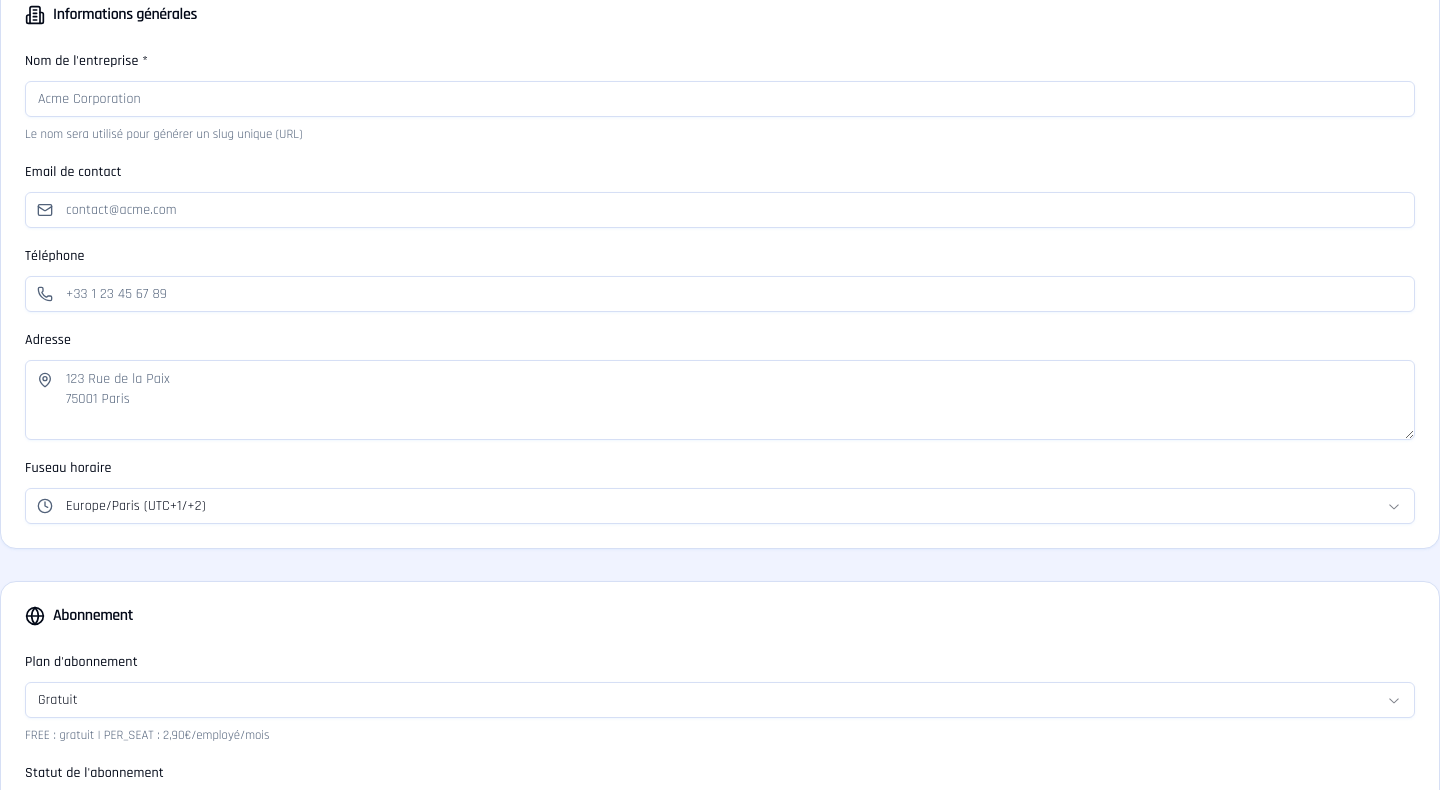
CompanyForm › Validation › affiche une erreur si le nom est trop court
Step 1. Type "A" into the field with placeholder "Acme Corporation" → (720, 99), box x1=25 y1=81 x2=1415 y2=117
(page scrolled)
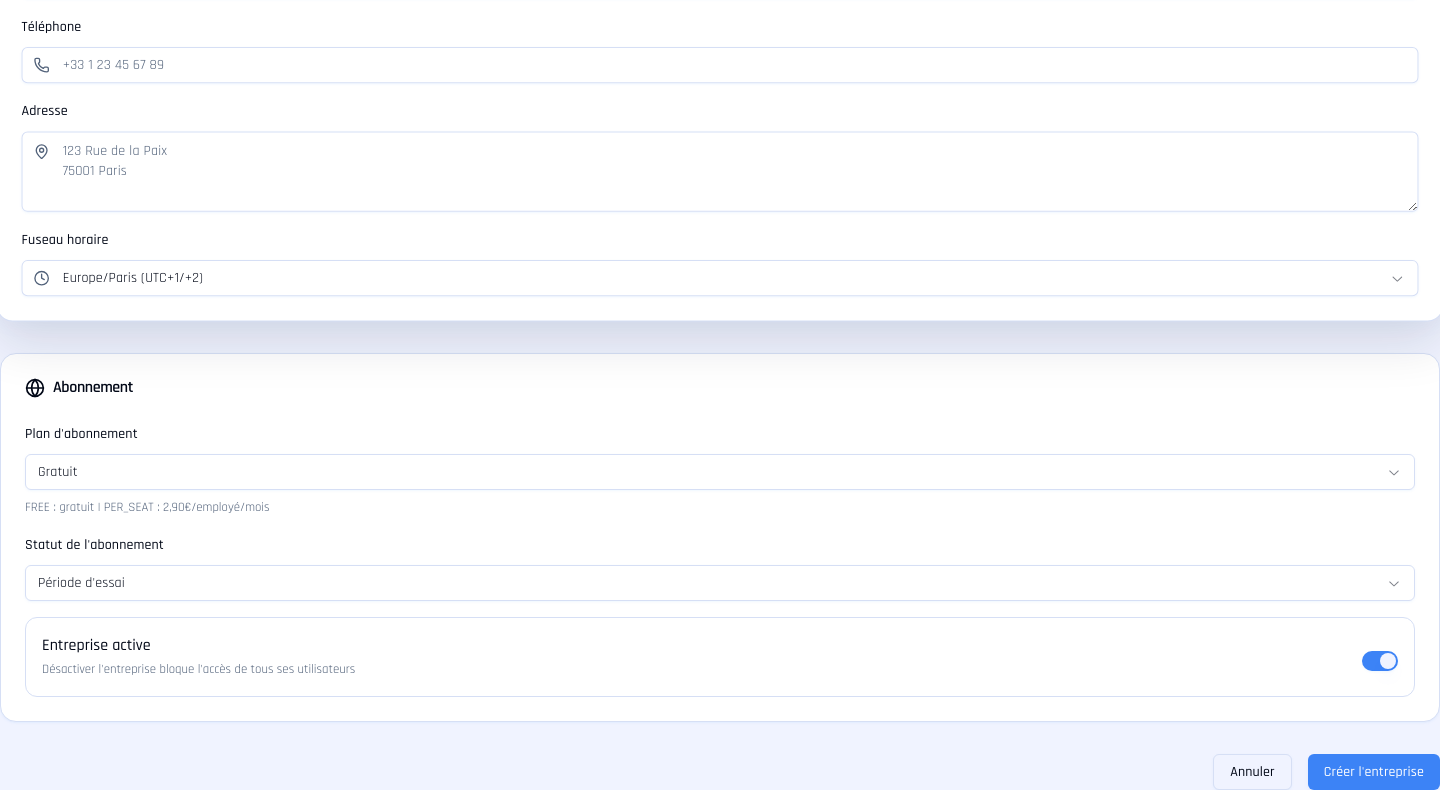
Step 2. Click the button "Créer l'entreprise" → (1374, 772), box x1=1308 y1=754 x2=1439 y2=789
(page scrolled)
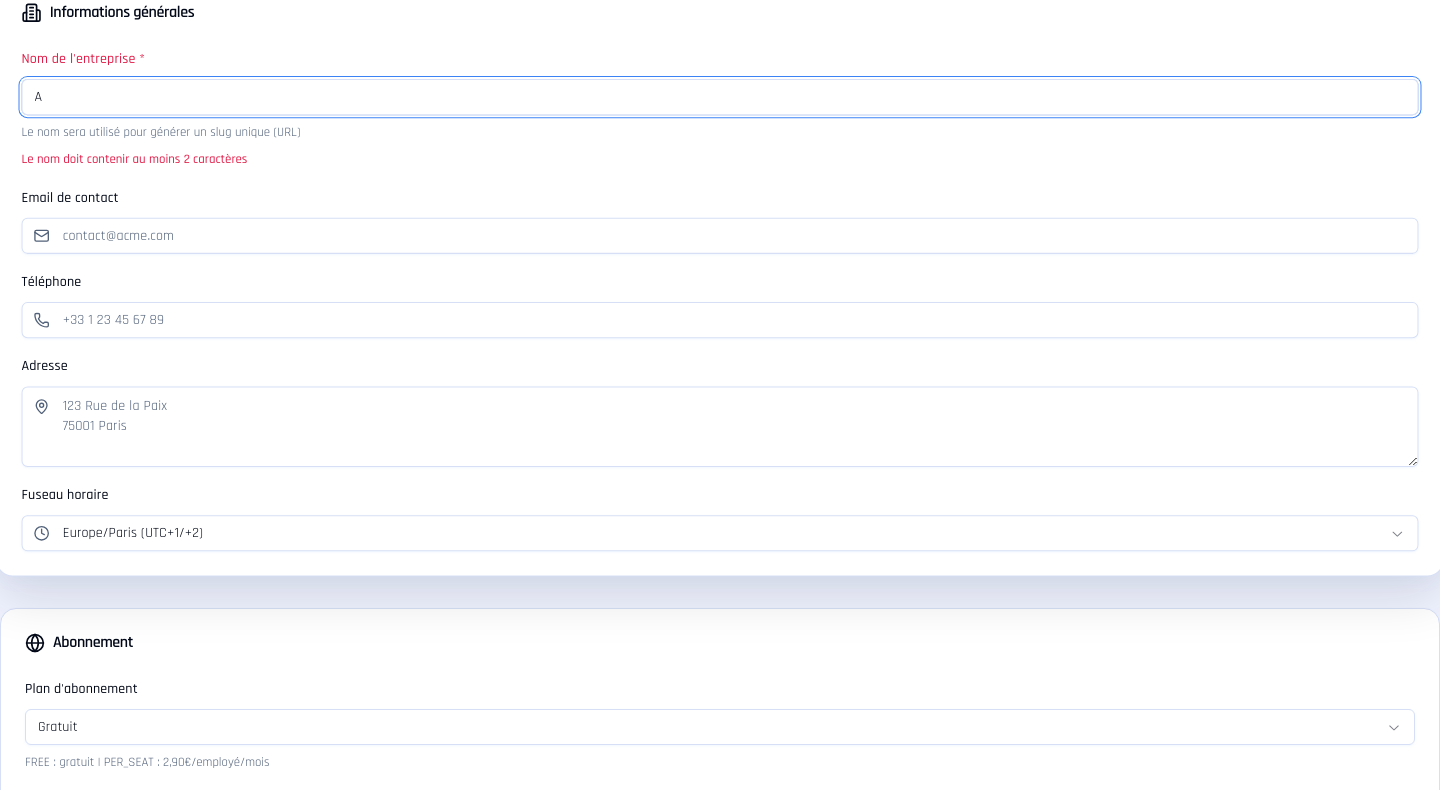
Result: the text "Le nom doit contenir au moins 2 caractères" is shown at x1=22 y1=152 x2=247 y2=168
